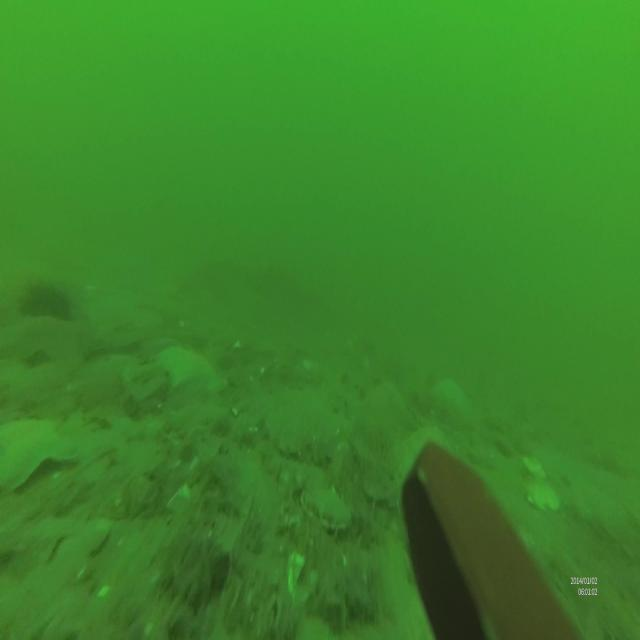scallop: (302, 480, 353, 537), (528, 478, 559, 516), (84, 528, 108, 560)
starfish: (2, 407, 75, 505), (157, 343, 215, 387)
